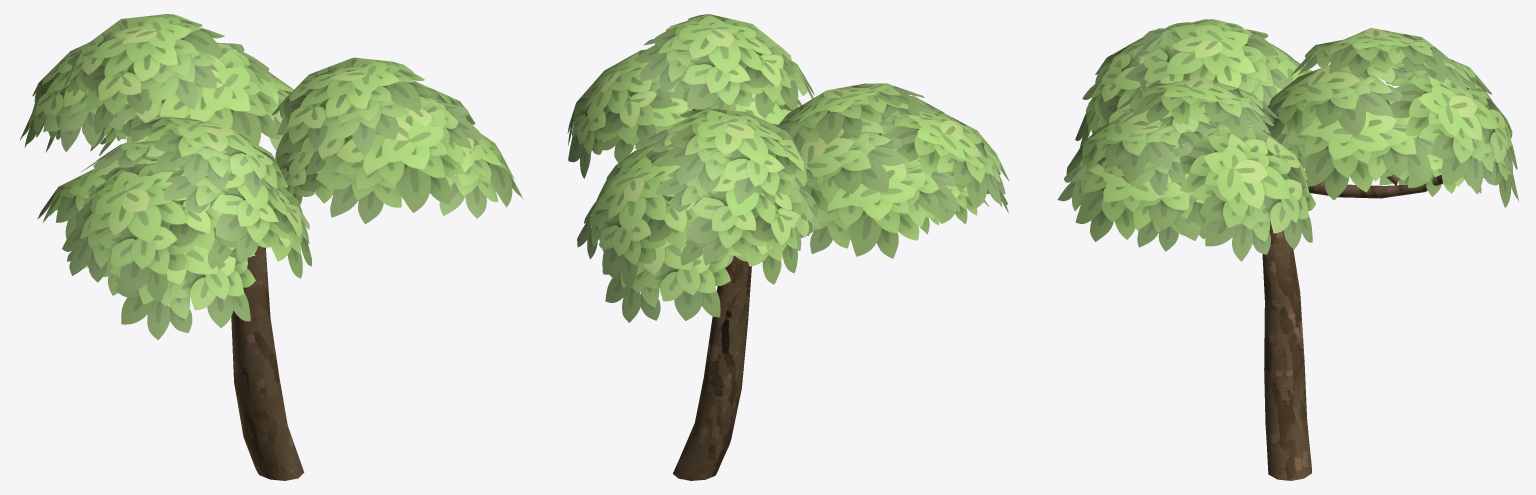
The model's file is tree_2.glb.
The picture shows the model from 3 angles, left to right: view 1: azimuth 30°, elevation 25°; view 2: azimuth 150°, elevation 25°; view 3: azimuth 270°, elevation 25°; orthographic projection. The views are drawn at different scales.
Parts seen in each view (by area): view 1: Tree_2; view 2: Tree_2; view 3: Tree_2.
Part boxes in pixels (left/top/right/bottom): Tree_2: left=20, top=14, right=523, bottom=480; Tree_2: left=567, top=14, right=1009, bottom=480; Tree_2: left=1057, top=19, right=1518, bottom=480.
Size of the model in its own units: 5.89 by 5.43 by 5.87.
2 materials, 2 textured.
